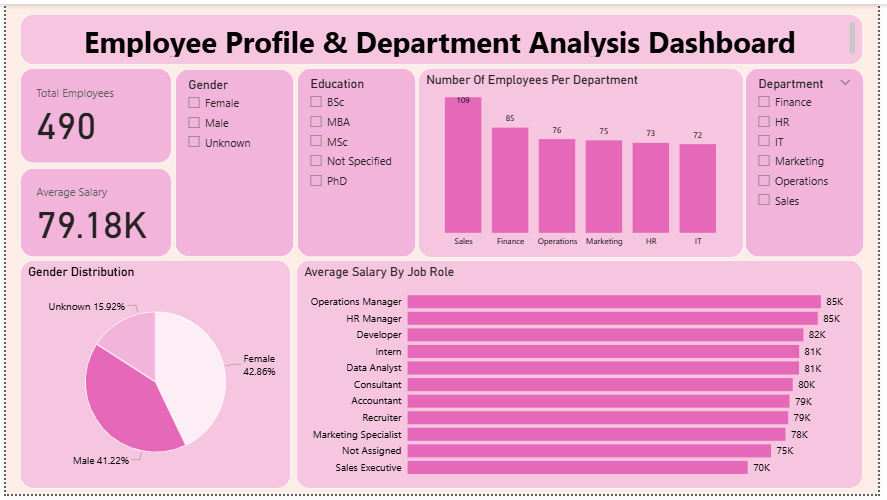

Layout of this report page (visuals, bound fields, positions):
{"tool":"powerbi","page":{"name":"Page 1","canvas":[1280,720],"ordinal":0},"visuals":[{"type":"clusteredColumnChart","title":"Number Of Employees Per Department","fields":{"Category":["Cleaned_Data.Department"],"Y":["CountNonNull(Cleaned_Data.Employee_ID)"]},"box":[605.4,94,479,279.2],"z":0},{"type":"clusteredBarChart","title":"Average Salary By Job Role","fields":{"Category":["Cleaned_Data.Job_Role"],"Y":["Avg(Cleaned_Data.Salary)"]},"box":[426.1,376.2,833.1,336.5],"z":1000},{"type":"pieChart","title":"Gender Distribution","fields":{"Category":["Cleaned_Data.Gender"],"Y":["CountNonNull(Cleaned_Data.Employee_ID)"]},"box":[20.6,376.2,398.2,336.5],"z":2000},{"type":"textbox","box":[20.6,14.7,1238.7,74.9],"z":3000},{"type":"cardVisual","fields":{"Data":["CountNonNull(Cleaned_Data.Employee_ID)"]},"box":[20.6,94,223.3,139.6],"z":4000},{"type":"cardVisual","fields":{"Data":["Avg(Cleaned_Data.Salary)"]},"box":[20.6,241,223.3,130.8],"z":5000},{"type":"slicer","fields":{"Values":["Cleaned_Data.Department"]},"box":[1085.9,94,174.9,277.7],"z":6000},{"type":"slicer","fields":{"Values":["Cleaned_Data.Education"]},"box":[427.6,94,174.9,277.7],"z":7000},{"type":"slicer","fields":{"Values":["Cleaned_Data.Gender"]},"box":[248.3,95.5,174.9,276.2],"z":8000}]}

Visuals, with their boxes in screenshot pixels (x1, y1, x2, y2), scaled from the page's 1280x720 canvas onto the 887x500 screenshot:
"Number Of Employees Per Department" clusteredColumnChart: bbox(420, 65, 751, 259)
"Average Salary By Job Role" clusteredBarChart: bbox(295, 261, 873, 495)
"Gender Distribution" pieChart: bbox(14, 261, 290, 495)
textbox: bbox(14, 10, 873, 62)
cardVisual - CountNonNull(Cleaned_Data.Employee_ID): bbox(14, 65, 169, 162)
cardVisual - Avg(Cleaned_Data.Salary): bbox(14, 167, 169, 258)
slicer - Cleaned_Data.Department: bbox(752, 65, 874, 258)
slicer - Cleaned_Data.Education: bbox(296, 65, 418, 258)
slicer - Cleaned_Data.Gender: bbox(172, 66, 293, 258)
